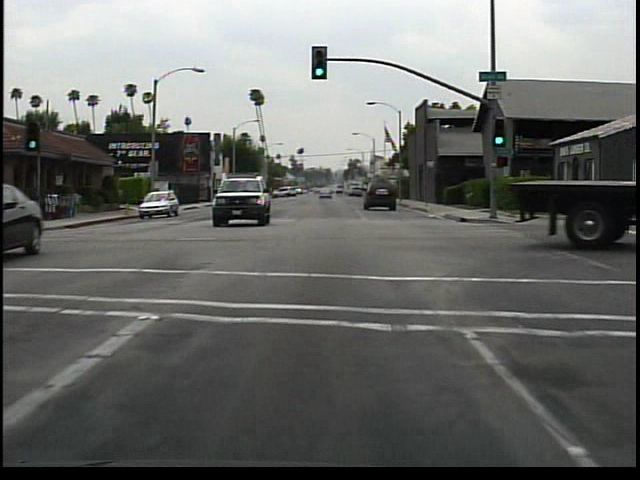person: (164, 183, 180, 206)
